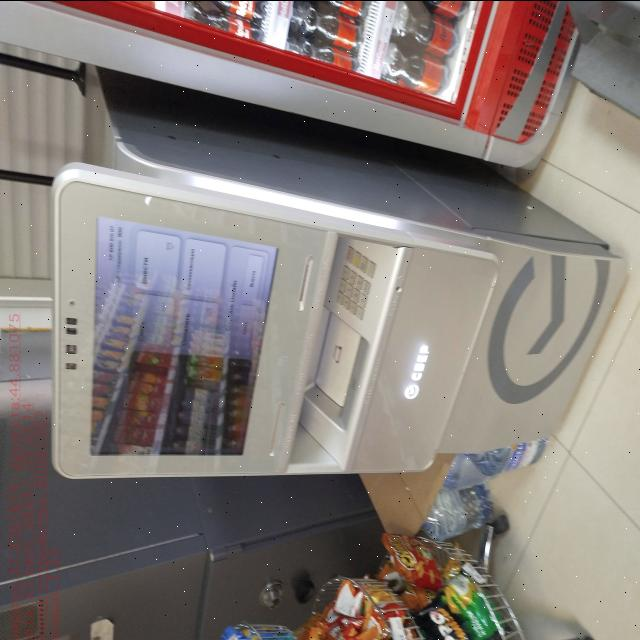bank: (54, 54, 620, 484)
